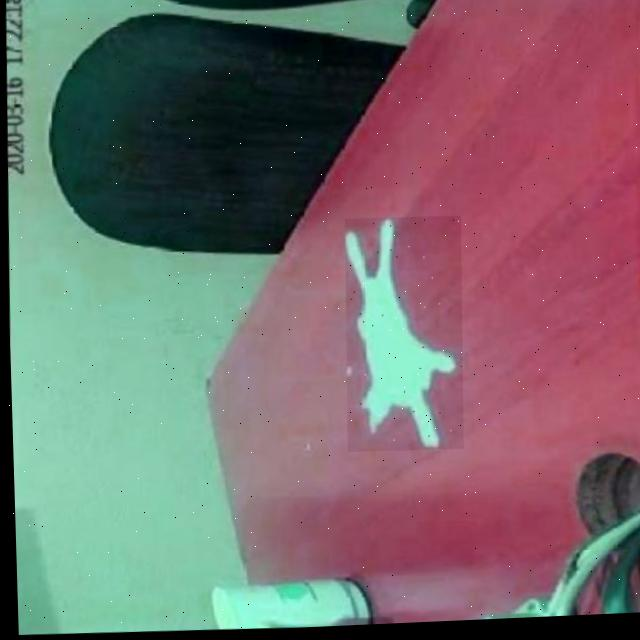spillage: (344, 220, 459, 452)
